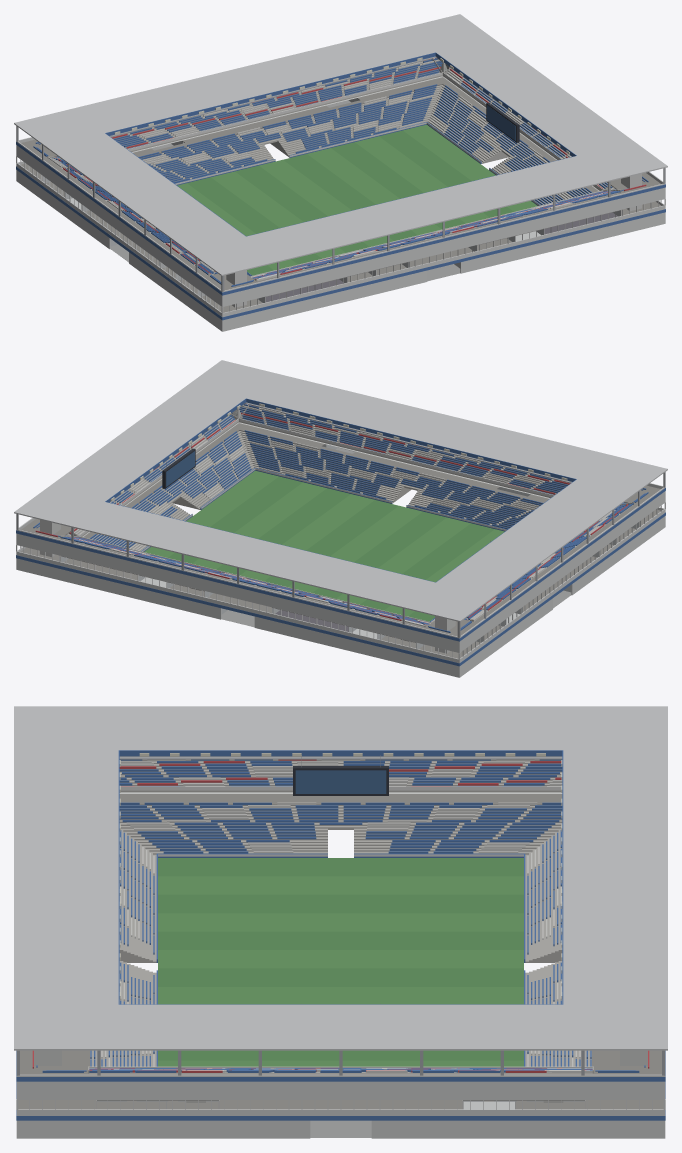
The model's file is arena.zfix-v3.lod0.glb.
3 views of the same model, one above another, from view 1: azimuth 30°, elevation 25°; view 2: azimuth 150°, elevation 25°; view 3: azimuth 270°, elevation 25° (orthographic). The views are drawn at different scales.
Parts seen in each view (by area): view 1: arena; view 2: arena; view 3: arena.
Boxes of the visible parts, <box> form: arena: <box>14,14,667,331</box>; arena: <box>14,360,667,677</box>; arena: <box>14,706,667,1138</box>.
Bounding box in the file's own units: 186 × 23.06 × 150.
